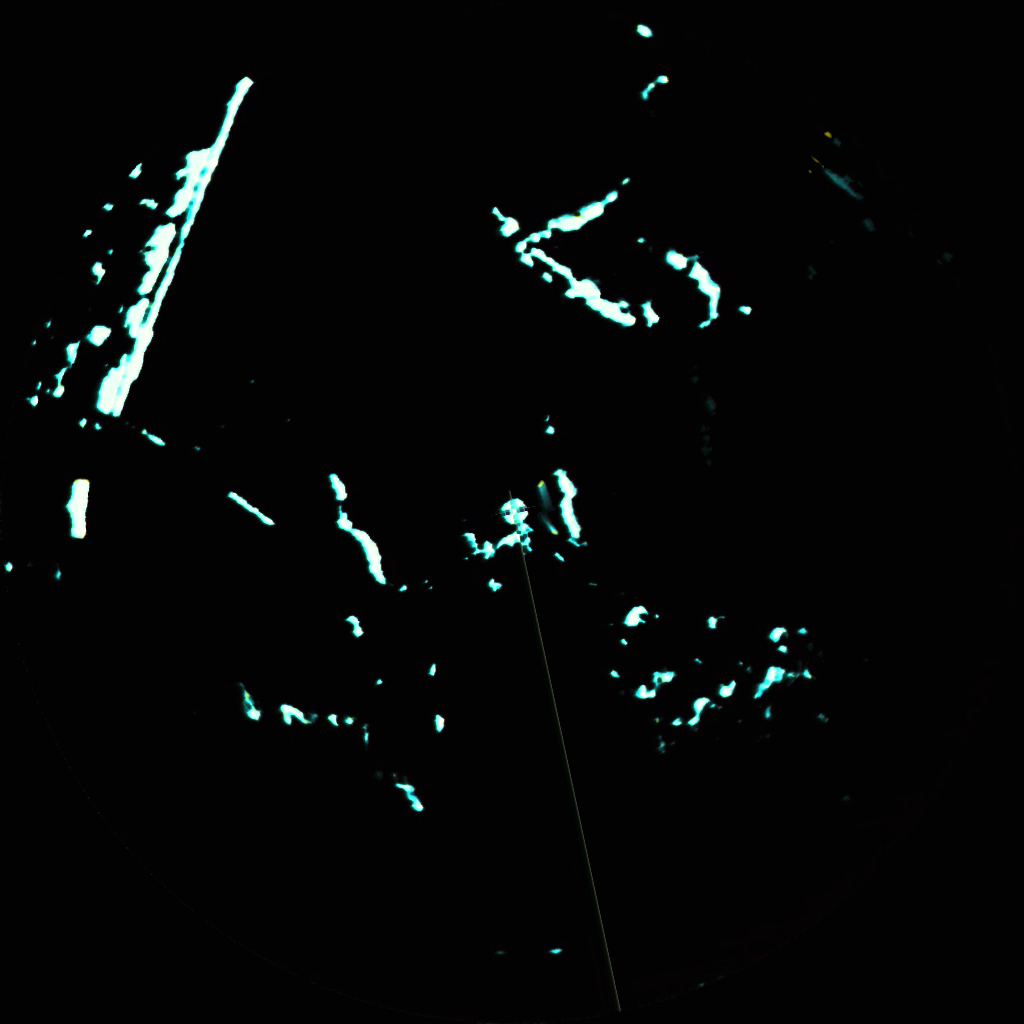B: (544, 520, 556, 536), (538, 480, 548, 499)
